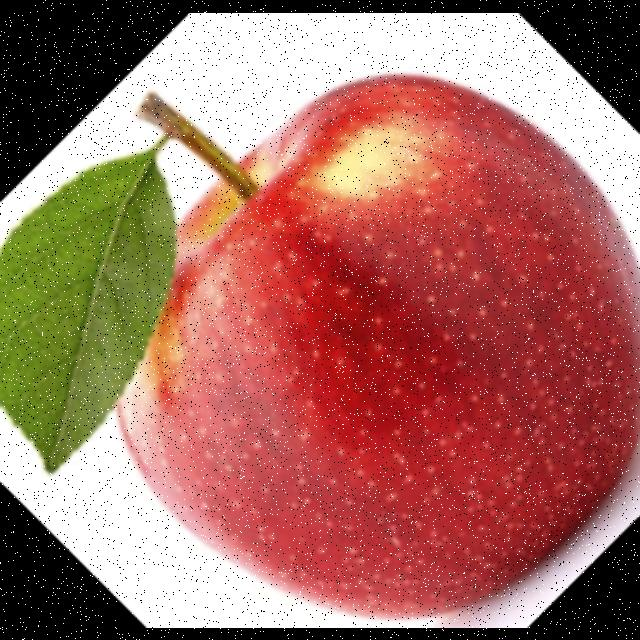Apel Segar: (88, 73, 640, 626)
